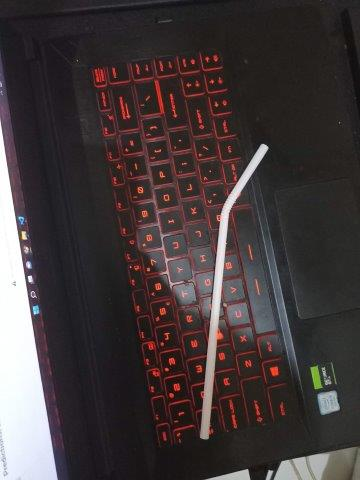sedotan: (199, 143, 268, 439)
